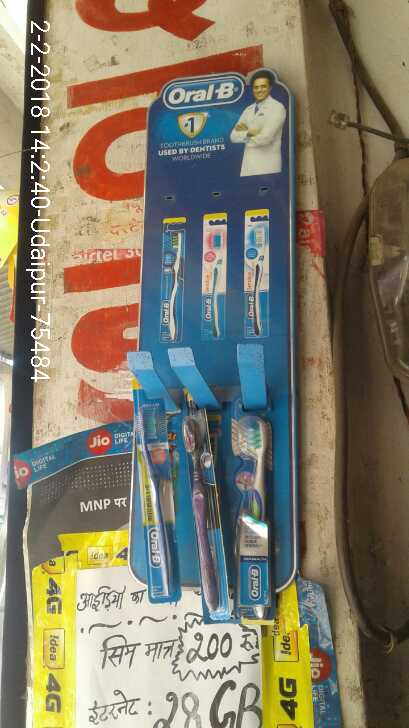oralb: (125, 389, 194, 603), (225, 405, 280, 623), (176, 399, 230, 613)
